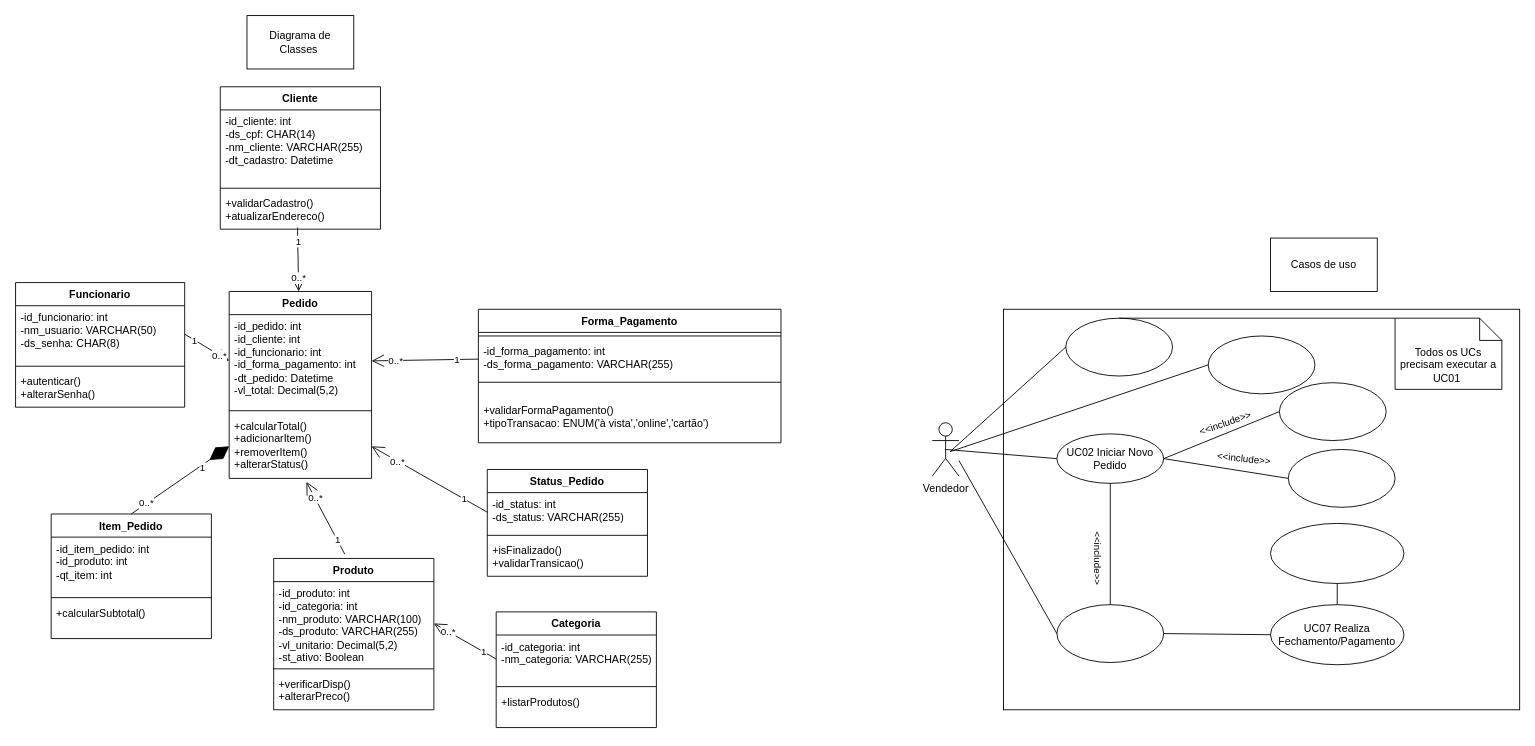
The diagram is 1535 pixels wide and 746 high, and some of its shapes have lost their labels. The shapes that lost their labels are listed below. From the top down, each one's centre as x and y in pixels, then its label:
[1119,346]: UC01 Fazer Login
[1261,364]: UC05 Gerenciar Produtos
[1332,411]: UC03 Informar Nome do Cliente
[1341,478]: UC04 Visualizar Cardápio
[1337,553]: UC08 Atualizar Status Pedido
[1110,633]: UC06 Registrar Pedidos
